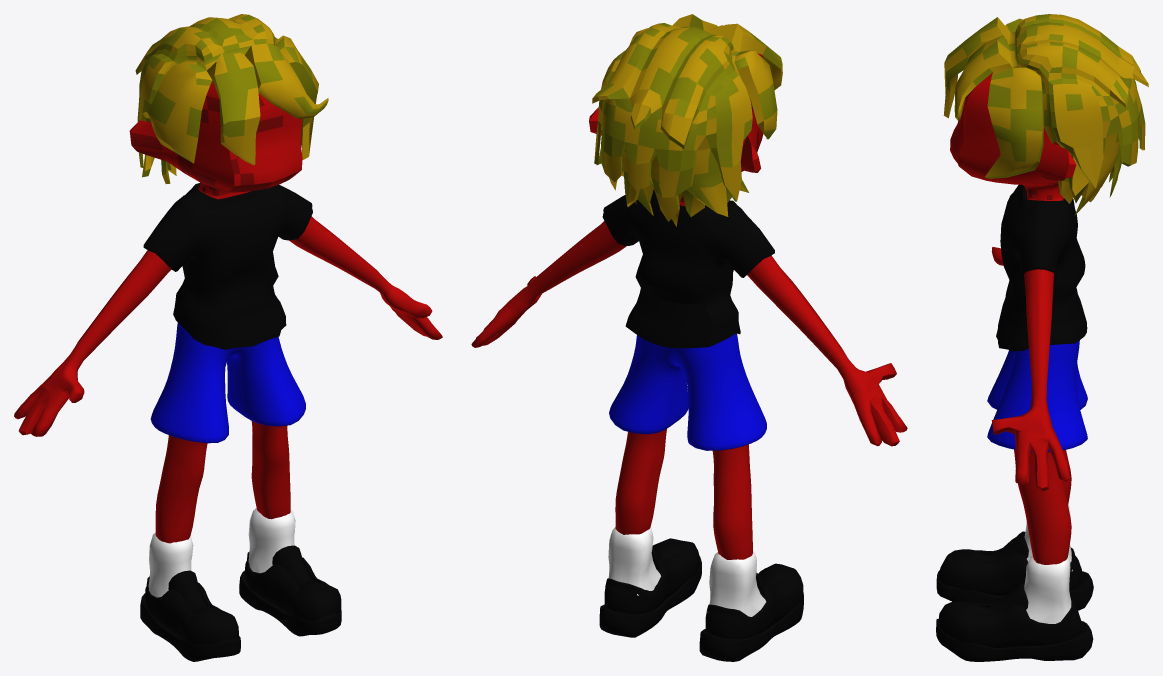
Rendered from CI_NPC-AnimeHair_MOD_v4.fbx.
3 views of the same model, side by side, from view 1: azimuth 30°, elevation 25°; view 2: azimuth 150°, elevation 25°; view 3: azimuth 270°, elevation 25° (orthographic).
Parts seen in each view (by area): view 1: NPC_Torso_TShirt_v1, NPC_Head_AnimeHair_v004, NPC_LowPoly_Shorts_v004, NPC_LowPoly_RSkechers_Sneaker_v1, NPC_LowPoly_LSkechers_Sneaker_v1; view 2: NPC_Head_AnimeHair_v004, NPC_Torso_TShirt_v1, NPC_LowPoly_Shorts_v004, NPC_LowPoly_LSkechers_Sneaker_v1, NPC_LowPoly_RSkechers_Sneaker_v1; view 3: NPC_Head_AnimeHair_v004, NPC_Torso_TShirt_v1, NPC_LowPoly_RSkechers_Sneaker_v1, NPC_LowPoly_Shorts_v004, NPC_LowPoly_LSkechers_Sneaker_v1.
Boxes of the visible parts, left/top/right/bottom form: NPC_Torso_TShirt_v1: left=14, top=182, right=442, bottom=436; NPC_Head_AnimeHair_v004: left=129, top=14, right=328, bottom=195; NPC_LowPoly_Shorts_v004: left=150, top=322, right=305, bottom=543; NPC_LowPoly_RSkechers_Sneaker_v1: left=239, top=508, right=341, bottom=636; NPC_LowPoly_LSkechers_Sneaker_v1: left=140, top=532, right=240, bottom=661; NPC_Head_AnimeHair_v004: left=589, top=14, right=782, bottom=226; NPC_Torso_TShirt_v1: left=471, top=189, right=907, bottom=446; NPC_LowPoly_Shorts_v004: left=609, top=334, right=766, bottom=559; NPC_LowPoly_LSkechers_Sneaker_v1: left=699, top=551, right=803, bottom=661; NPC_LowPoly_RSkechers_Sneaker_v1: left=599, top=527, right=701, bottom=637; NPC_Head_AnimeHair_v004: left=943, top=14, right=1148, bottom=215; NPC_Torso_TShirt_v1: left=991, top=184, right=1087, bottom=491; NPC_LowPoly_RSkechers_Sneaker_v1: left=936, top=555, right=1093, bottom=661; NPC_LowPoly_Shorts_v004: left=987, top=340, right=1087, bottom=564; NPC_LowPoly_LSkechers_Sneaker_v1: left=936, top=505, right=1093, bottom=610.
Size of the model in its own units: 47.3 by 64.49 by 20.64.
